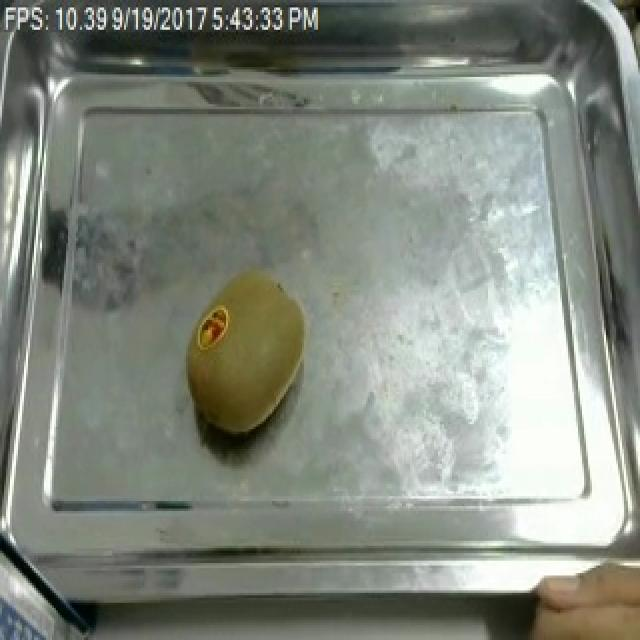Fruit: (178, 263, 316, 439), (508, 545, 640, 640)
